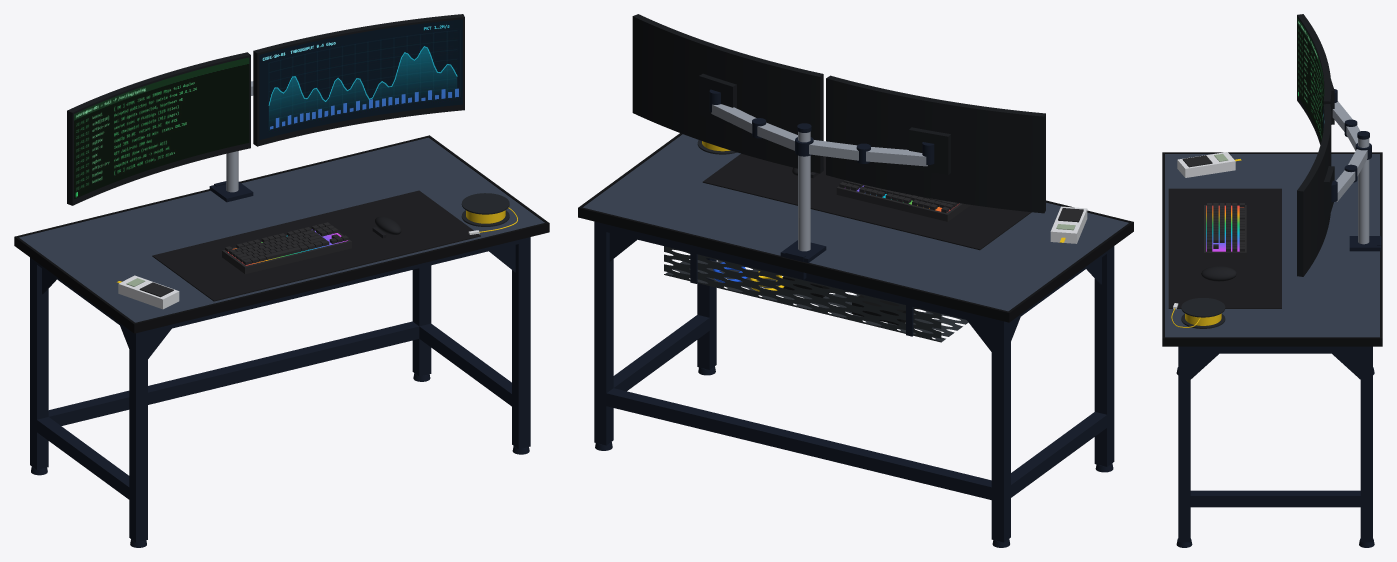
The model's file is Office_Server_Admin_Console.glb.
3 renders of one model, left to right at view 1: azimuth 30°, elevation 25°; view 2: azimuth 150°, elevation 25°; view 3: azimuth 270°, elevation 25°, orthographic. The views are drawn at different scales.
Parts seen in each view (by area): view 1: HPL_Work_Surface, Monitor_Network_Screen, Monitor_Terminal_Screen, Extended_Desk_Mat, Low_Stretcher_Rear, PVC_Bumper_Front, Leg_01, Leg_11, Leg_00, Monitor_Network_Casing, Monitor_Terminal_Casing, Keyboard_Keycaps (+9 smaller); view 2: HPL_Work_Surface, Monitor_Terminal_Casing, Monitor_Network_Casing, Extended_Desk_Mat, Low_Stretcher_Rear, Basket_Back, PVC_Bumper_Back, Leg_00, Leg_10, Leg_01, Top_Rail_X_0, Low_Stretcher_Z_0 (+13 smaller); view 3: HPL_Work_Surface, Extended_Desk_Mat, Monitor_Network_Casing, Low_Stretcher_Z_1, Leg_11, Leg_10, PVC_Bumper_Right, Monitor_Terminal_Screen, Keyboard_Keycaps, Top_Rail_Z_1, Pole_Mount_Post, Monitor_Terminal_Casing (+16 smaller).
Part boxes in pixels (left/top/right/bottom): HPL_Work_Surface: left=19, top=137, right=544, bottom=322; Monitor_Network_Screen: left=259, top=19, right=462, bottom=140; Monitor_Terminal_Screen: left=74, top=57, right=249, bottom=199; Extended_Desk_Mat: left=152, top=190, right=480, bottom=301; Low_Stretcher_Rear: left=48, top=321, right=419, bottom=425; PVC_Bumper_Front: left=133, top=222, right=549, bottom=333; Leg_01: left=129, top=330, right=147, bottom=542; Leg_11: left=512, top=241, right=530, bottom=449; Leg_00: left=30, top=260, right=48, bottom=469; Monitor_Network_Casing: left=253, top=14, right=464, bottom=146; Monitor_Terminal_Casing: left=67, top=52, right=250, bottom=205; Keyboard_Keycaps: left=225, top=222, right=348, bottom=265; HPL_Work_Surface: left=583, top=134, right=1128, bottom=311; Monitor_Terminal_Casing: left=826, top=75, right=1045, bottom=213; Monitor_Network_Casing: left=632, top=14, right=823, bottom=173; Extended_Desk_Mat: left=702, top=153, right=1031, bottom=250; Low_Stretcher_Rear: left=606, top=388, right=991, bottom=499; Basket_Back: left=664, top=246, right=941, bottom=342; PVC_Bumper_Back: left=578, top=207, right=1010, bottom=322; Leg_00: left=991, top=318, right=1010, bottom=542; Leg_10: left=594, top=221, right=613, bottom=445; Leg_01: left=1094, top=248, right=1114, bottom=466; Top_Rail_X_0: left=606, top=224, right=1009, bottom=328; Low_Stretcher_Z_0: left=1011, top=412, right=1106, bottom=497; HPL_Work_Surface: left=1165, top=154, right=1379, bottom=337; Extended_Desk_Mat: left=1168, top=188, right=1281, bottom=308; Monitor_Network_Casing: left=1297, top=104, right=1331, bottom=276; Low_Stretcher_Z_1: left=1190, top=490, right=1360, bottom=507; Leg_11: left=1178, top=346, right=1190, bottom=542; Leg_10: left=1360, top=346, right=1372, bottom=542; PVC_Bumper_Right: left=1165, top=337, right=1379, bottom=346; Monitor_Terminal_Screen: left=1297, top=18, right=1324, bottom=142; Keyboard_Keycaps: left=1207, top=203, right=1244, bottom=251; Top_Rail_Z_1: left=1190, top=346, right=1360, bottom=353; Pole_Mount_Post: left=1358, top=138, right=1369, bottom=244; Monitor_Terminal_Casing: left=1297, top=14, right=1331, bottom=144.
Size of the model in its own units: 1.4 by 1.25 by 0.7.
18 materials, 4 textured.
